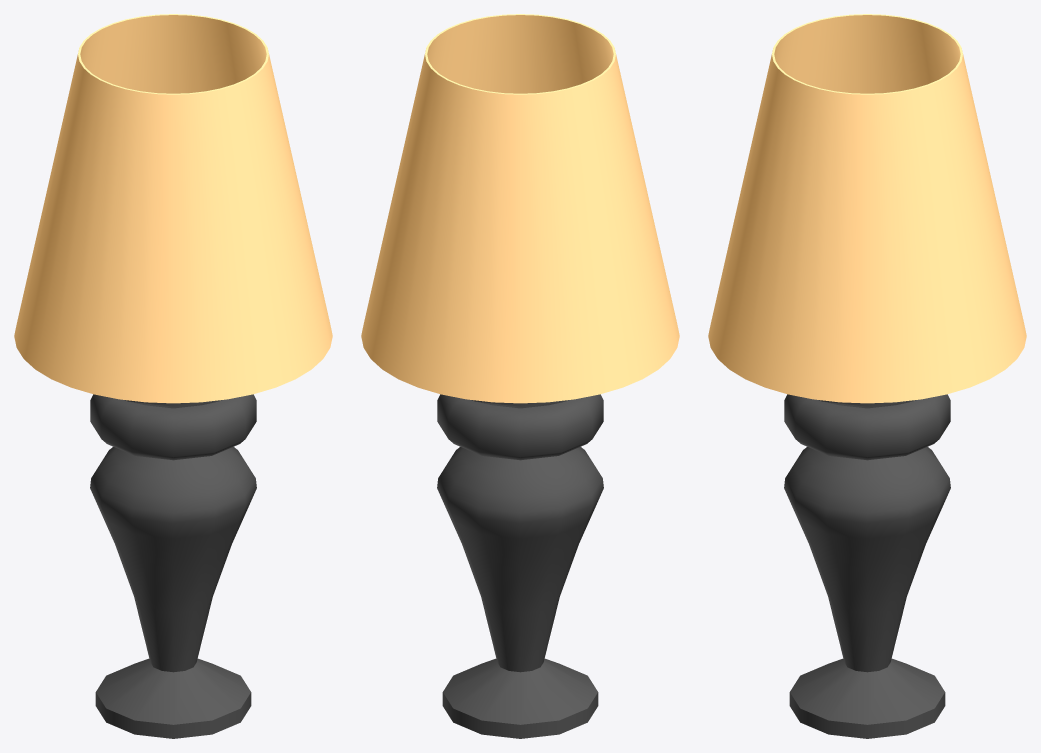
Rendered from Table_Lamp_ShapelyBase_ConeShade.fbx.
The picture shows the model from 3 angles, left to right: view 1: azimuth 30°, elevation 25°; view 2: azimuth 150°, elevation 25°; view 3: azimuth 270°, elevation 25°; orthographic projection.
Parts seen in each view (by area): view 1: Table_Lamp_ShapelyBase_ConeShade; view 2: Table_Lamp_ShapelyBase_ConeShade; view 3: Table_Lamp_ShapelyBase_ConeShade.
Boxes of the visible parts, <box> form: Table_Lamp_ShapelyBase_ConeShade: <box>14,14,332,738</box>; Table_Lamp_ShapelyBase_ConeShade: <box>361,14,679,738</box>; Table_Lamp_ShapelyBase_ConeShade: <box>708,14,1026,738</box>.
Bounding box in the file's own units: 30.75 × 69.41 × 30.75.
